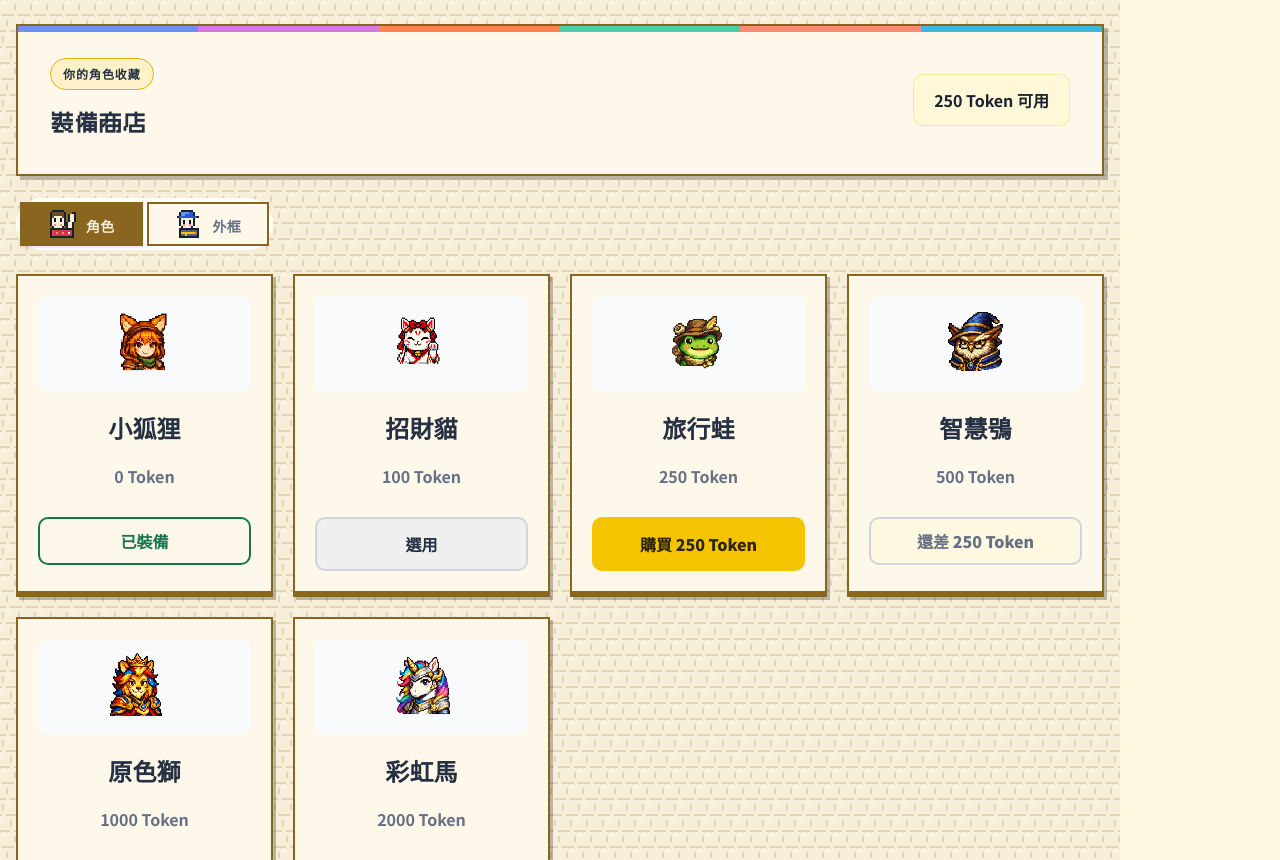
Test case: ShopPage › retains the snapshot and reports the exact server shortfall after a rejected purchase
Click the button with aria-label "購買 旅行蛙，250 Token" at (698, 544), box [592,517,805,571]
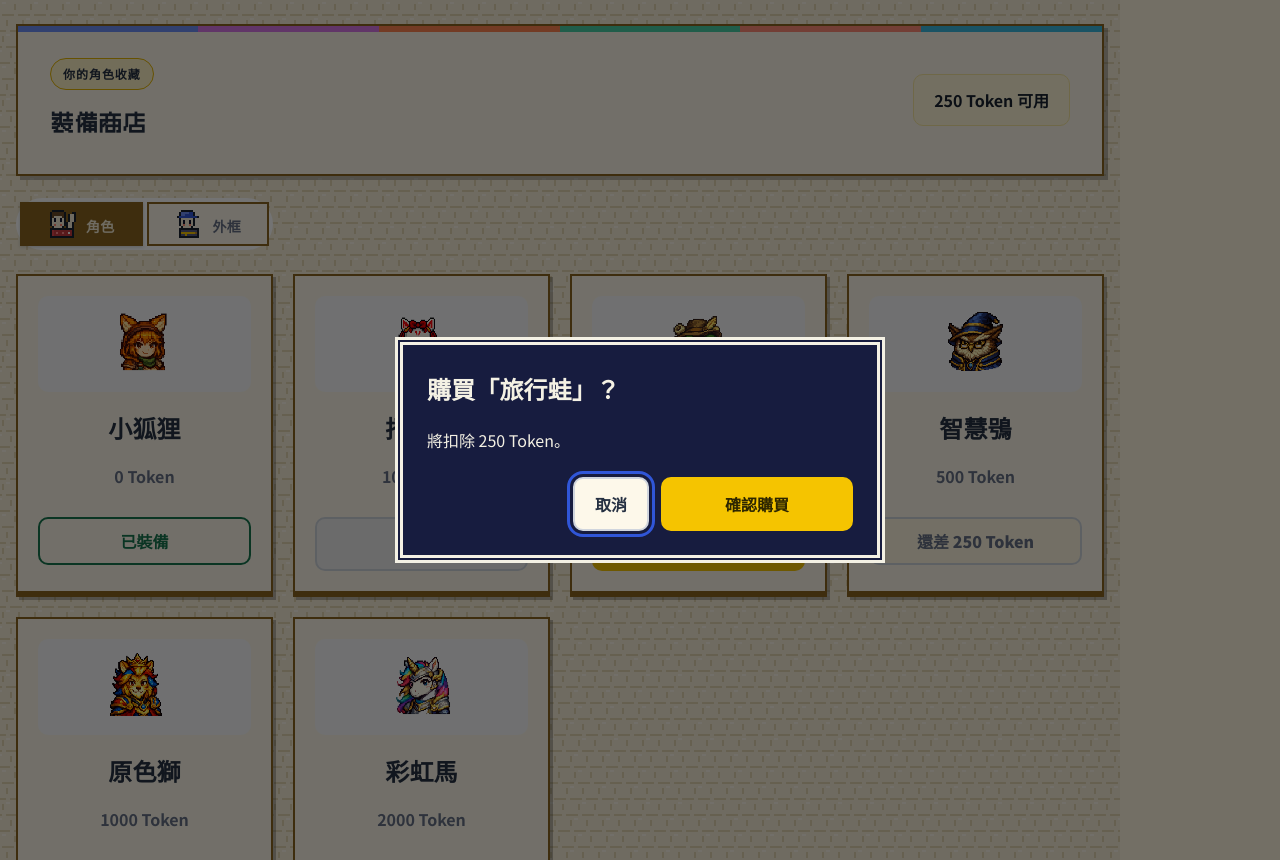
Click the button "確認購買" at (757, 504), box [661,478,853,532]
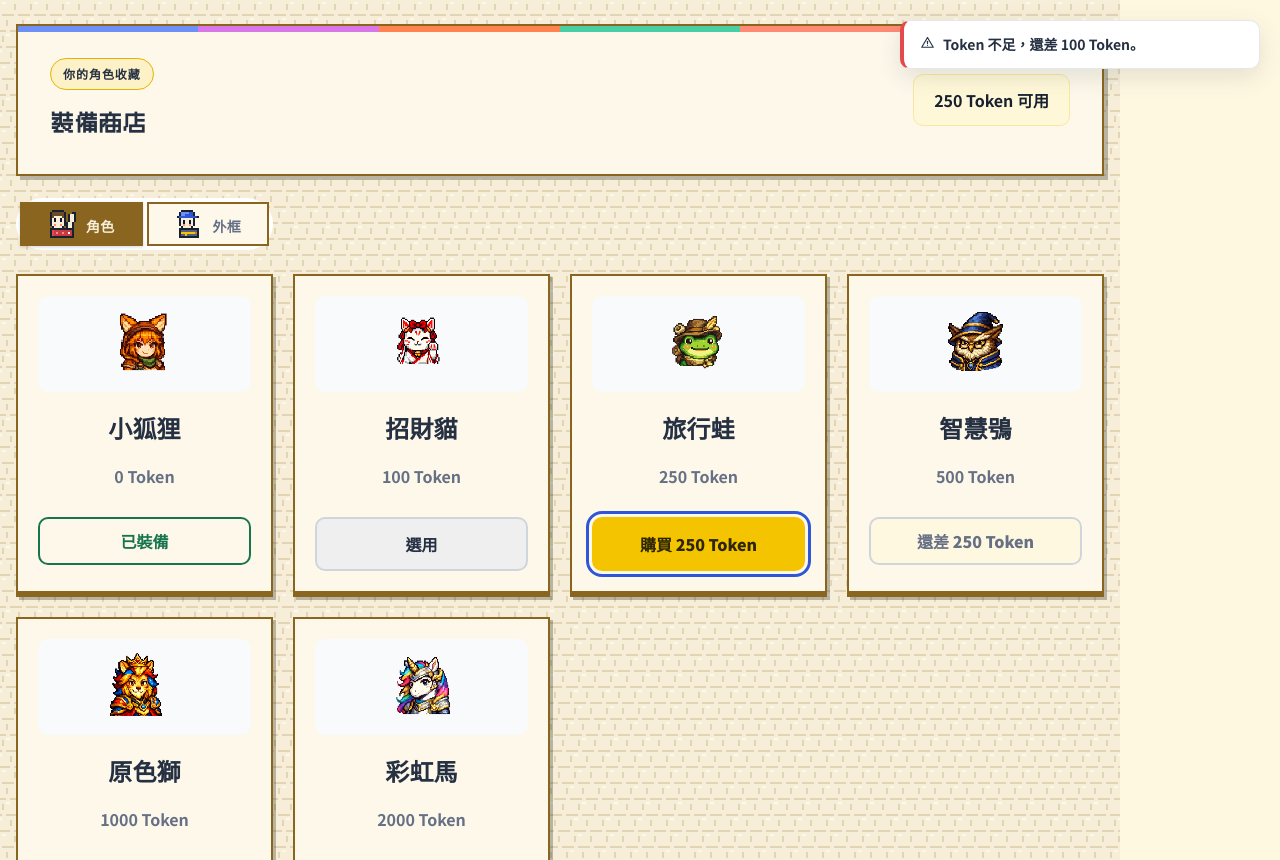
Expected: the text "250 Token 可用" is shown, [913,74,1070,126]
Expected: the message reads "Token 不足，還差 100 Token。", [943,34,1144,54]
